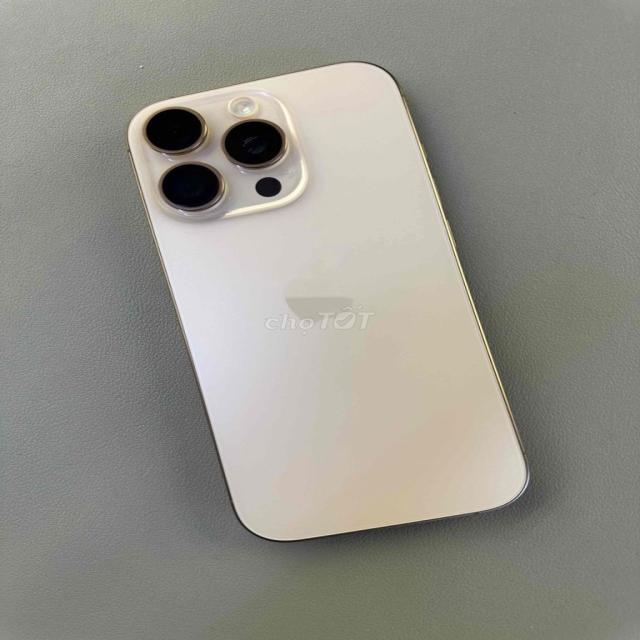gen_16: (128, 62, 528, 539)
